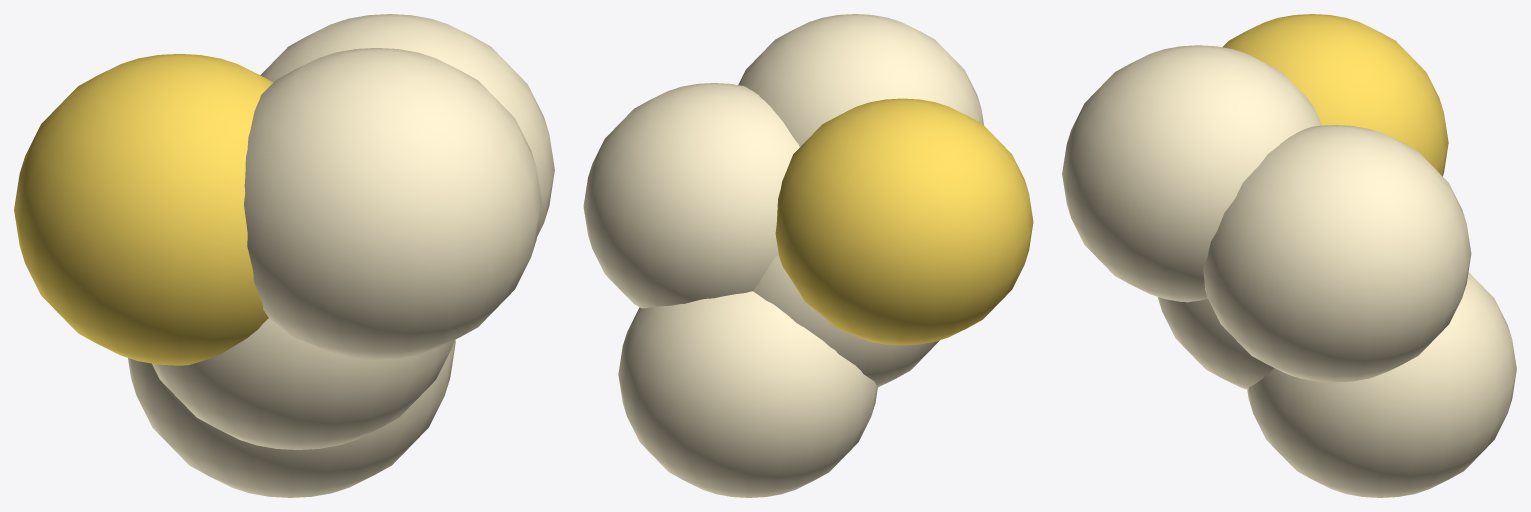
Rendered from Ammo_Popcorn.glb.
The picture shows the model from 3 angles, left to right: view 1: azimuth 30°, elevation 25°; view 2: azimuth 150°, elevation 25°; view 3: azimuth 270°, elevation 25°; orthographic projection. The views are drawn at different scales.
Parts seen in each view (by area): view 1: Sphere.003, Sphere.002, Sphere, Sphere.004, Sphere.001; view 2: Sphere.002, Sphere.004, Sphere.001, Sphere.003, Sphere; view 3: Sphere.001, Sphere.003, Sphere.004, Sphere.002, Sphere.
Part boxes in pixels (box(x1,y1,x2,y2)): Sphere.003: box(244, 48, 541, 359); Sphere.002: box(14, 54, 273, 365); Sphere: box(152, 318, 454, 449); Sphere.004: box(128, 339, 455, 497); Sphere.001: box(260, 14, 554, 236); Sphere.002: box(775, 98, 1033, 345); Sphere.004: box(618, 291, 877, 497); Sphere.001: box(583, 83, 799, 308); Sphere.003: box(738, 14, 983, 146); Sphere: box(753, 255, 939, 387); Sphere.001: box(1203, 125, 1471, 382); Sphere.003: box(1062, 45, 1321, 302); Sphere.004: box(1247, 272, 1516, 497); Sphere.002: box(1222, 14, 1448, 176); Sphere: box(1157, 297, 1274, 389).
Size of the model in its own units: 1.07 by 1.01 by 1.
